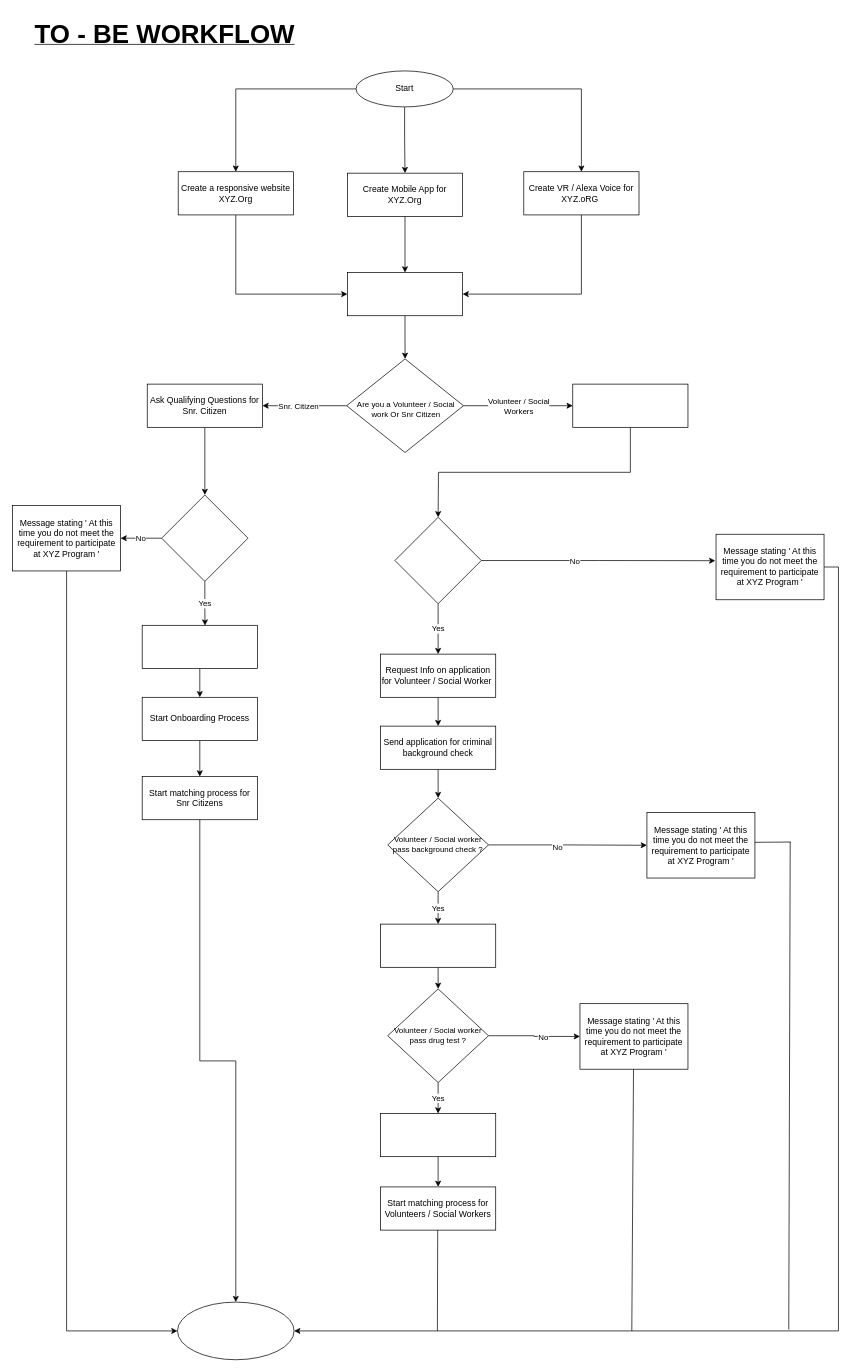
This 857x1372 diagram has some shape labels left out. Here are the shapes that lost their labels. From the top down, the centre of each, then its label:
At (x=405, y=294): "Start Registration Process".
At (x=630, y=405): "Ask Qualifying Questions for Volunteers / Social Workers".
At (x=204, y=537): "Qualify for Snr. Citizen ?".
At (x=437, y=560): "Qualify for Snr. Volunteer / Social Worker?".
At (x=199, y=647): "Request Info on application for Snr Citizen".
At (x=438, y=945): "Request applicant to complete a drug test at the nearest lab".
At (x=438, y=1135): "Start On-boarding process + required training".
At (x=235, y=1330): "End".
